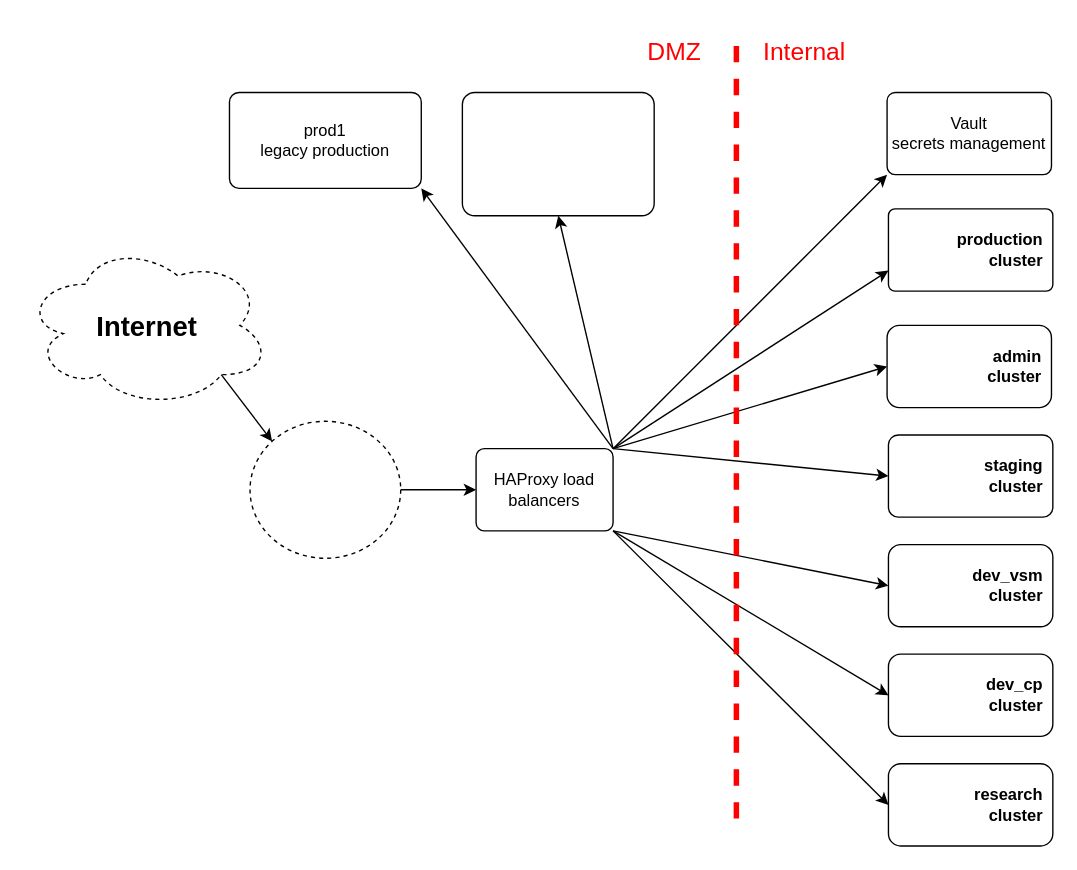
This 1077x870 diagram has some shape labels left out. The shapes that lost their labels are listed below. From the top down, each one's centre as x and y in pixels, then its label:
the point at 557,153: GitLab code repository issue tracking CI/CD pipeline coordinator Mattermost chat
the point at 325,489: ITS DNS
